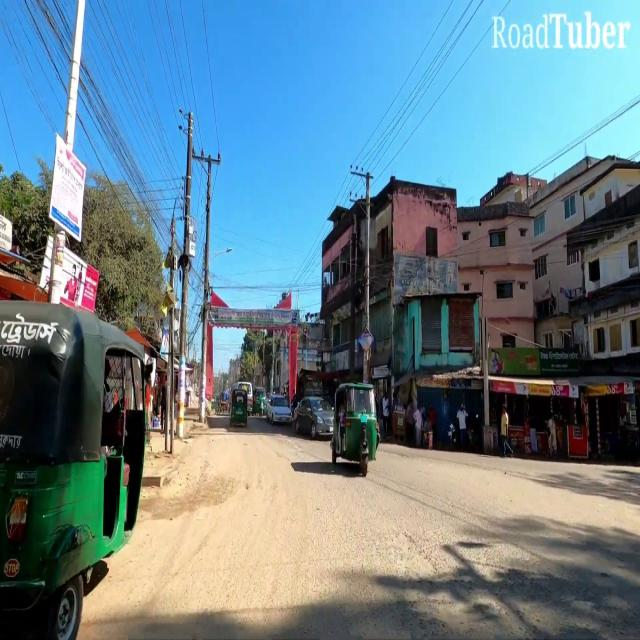black: (296, 394, 342, 443)
white: (267, 394, 295, 429)
